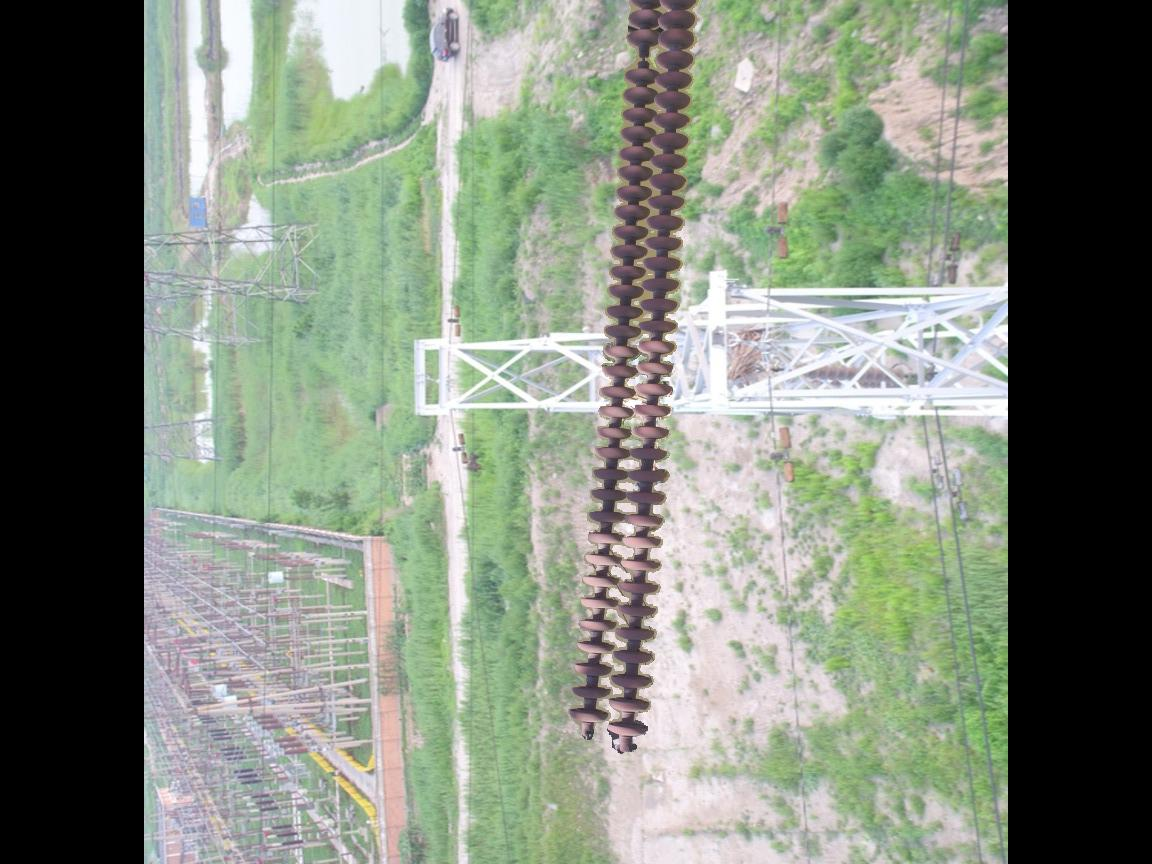insulator: (563, 1, 702, 756)
insulator_stringdrop: (621, 26, 660, 86)
